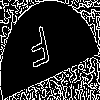F: (25, 25, 54, 78)
